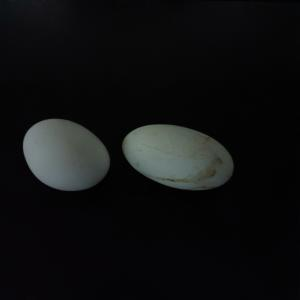Egg: (127, 110, 247, 198), (23, 117, 119, 196)
